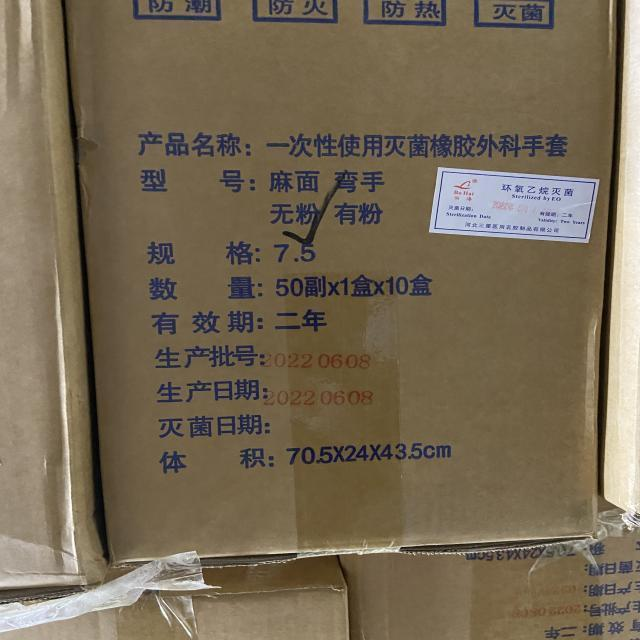box: (68, 0, 612, 566), (0, 0, 108, 590), (339, 495, 640, 640), (0, 550, 352, 639)
